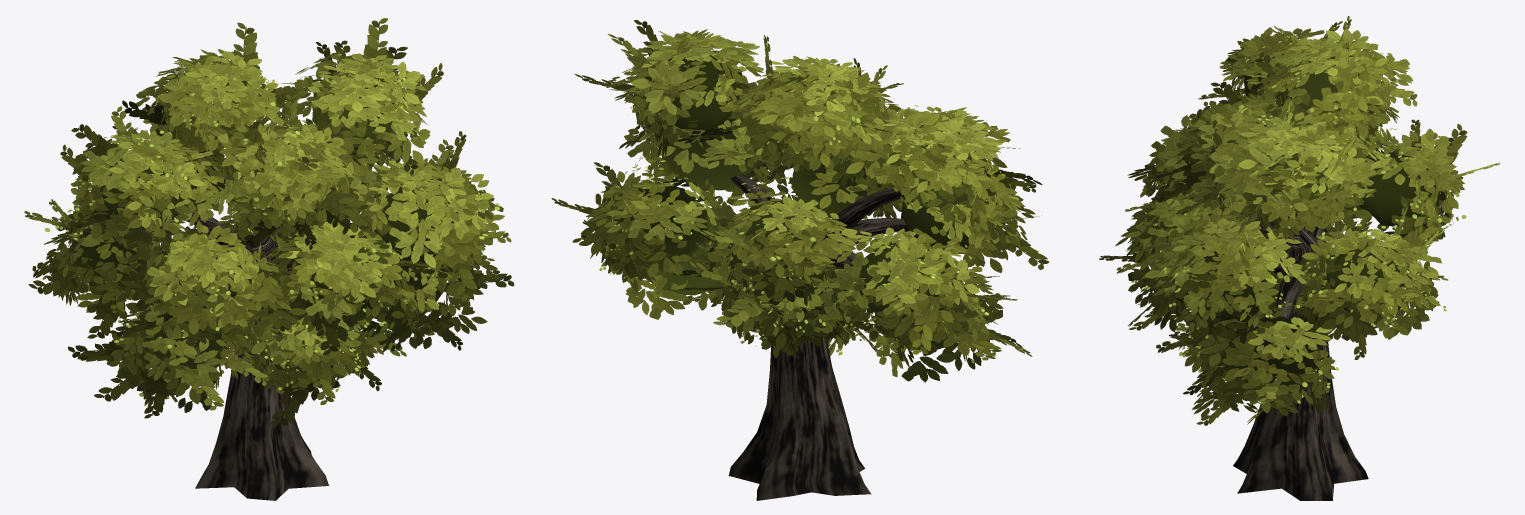
The model's file is CreTree06.glb.
The picture shows the model from 3 angles, left to right: view 1: azimuth 30°, elevation 25°; view 2: azimuth 150°, elevation 25°; view 3: azimuth 270°, elevation 25°; orthographic projection. The views are drawn at different scales.
Visible parts, largest first — view 1: CreTree06_leaves; view 2: CreTree06_leaves; view 3: CreTree06_leaves.
Boxes of the visible parts, bbox=[...] form: CreTree06_leaves: bbox=[24, 18, 514, 500]; CreTree06_leaves: bbox=[551, 20, 1048, 500]; CreTree06_leaves: bbox=[1099, 16, 1500, 500].
Bounding box in the file's own units: 8.23 × 7.7 × 6.58.
3 materials, 2 textured.
